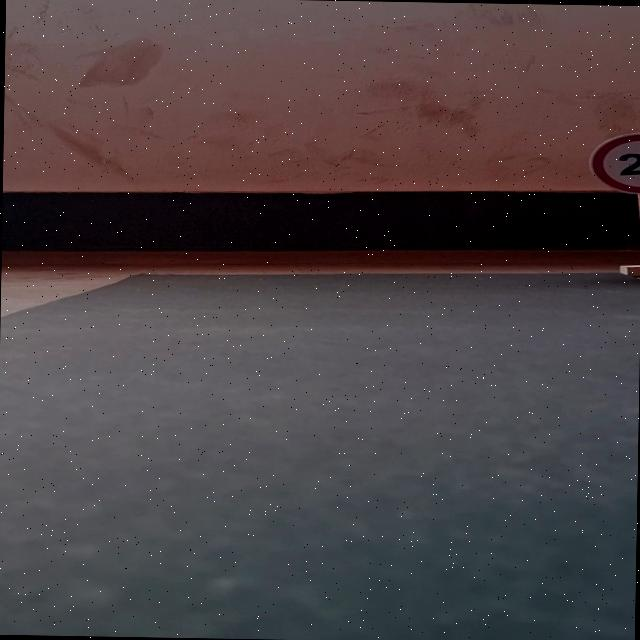Speed20: (575, 124, 640, 197)
